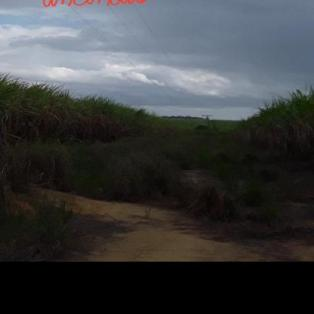Poste: (0, 0, 20, 176)
